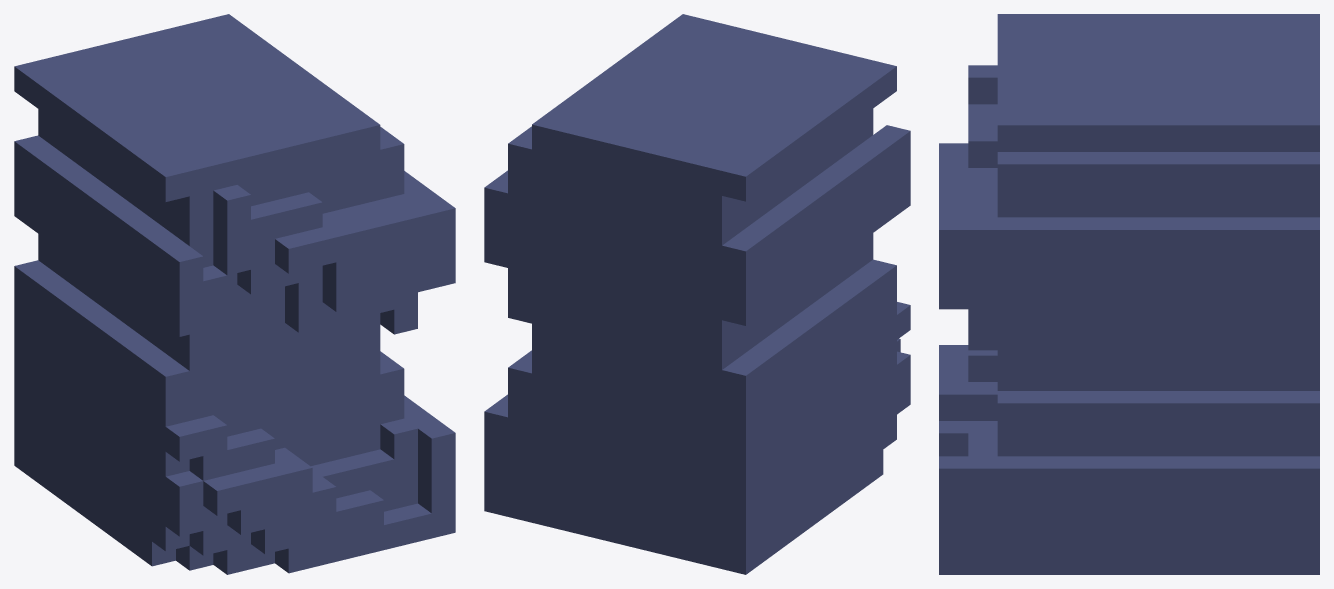
3 views of the same model, side by side, from view 1: azimuth 30°, elevation 25°; view 2: azimuth 150°, elevation 25°; view 3: azimuth 270°, elevation 25° (orthographic). The views are drawn at different scales.
Bounding box in the file's own units: 0.55 × 0.8 × 0.65.
